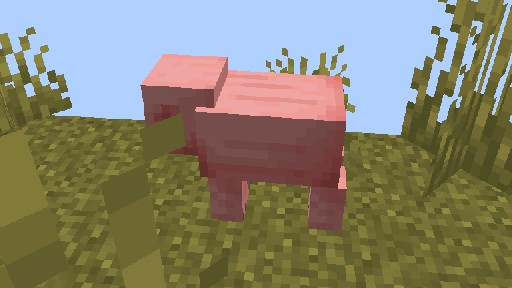pig: (139, 52, 347, 231)
